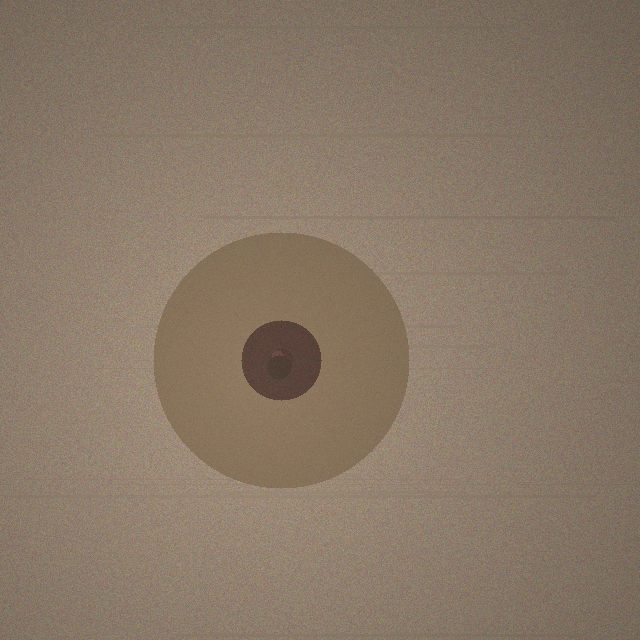cold_weld: (153, 232, 409, 488)
